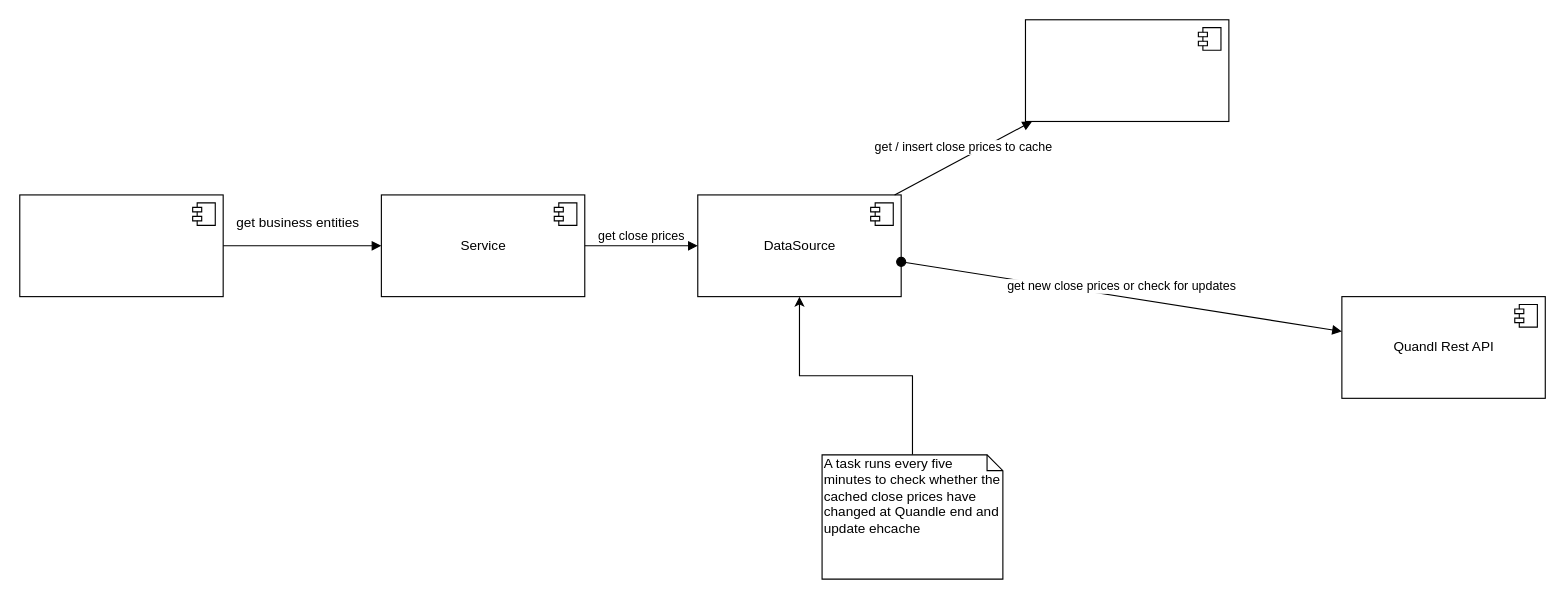
Some shapes in this 1565 by 599 pixel diagram are drawn without their labels. The centre of each missing label's shape, as x and y in pixels:
Ehcache: point (1126, 70)
RestController: point (121, 245)
